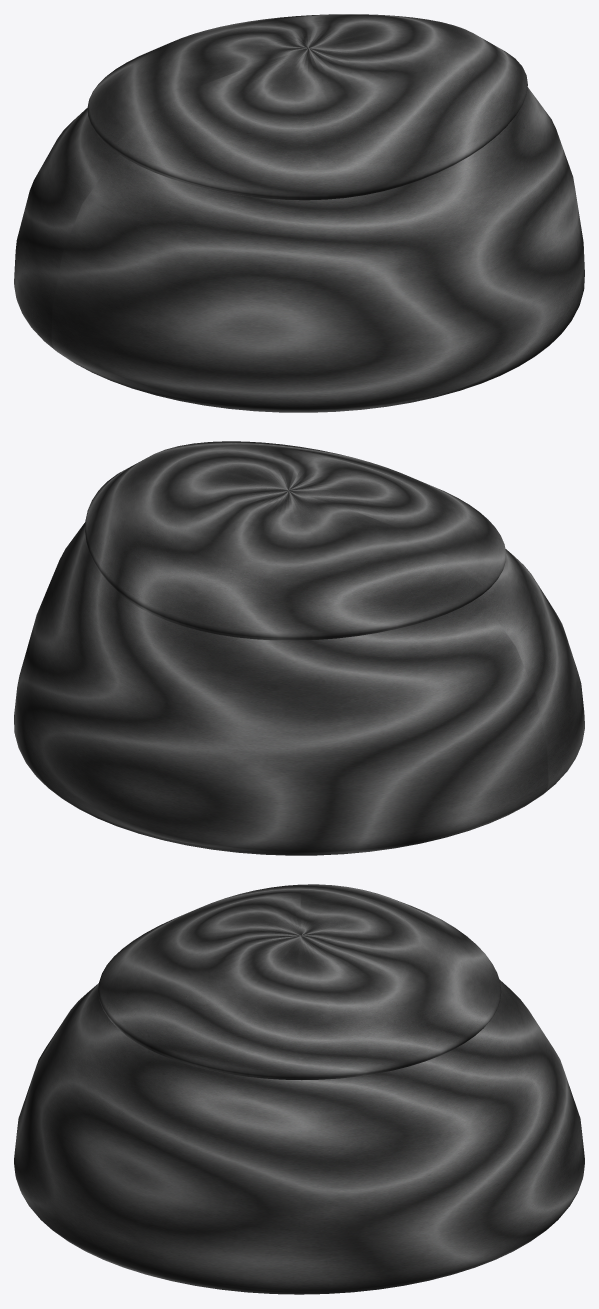
File: Rock.fbx
3 views of the same model, one above another, from view 1: azimuth 30°, elevation 25°; view 2: azimuth 150°, elevation 25°; view 3: azimuth 270°, elevation 25° (orthographic).
Parts seen in each view (by area): view 1: Rock, Overlay; view 2: Rock, Overlay; view 3: Rock, Overlay.
Boxes of the visible parts, x1,y1,x2,y2 form: Rock: (14, 87, 584, 412); Overlay: (87, 14, 527, 200); Rock: (14, 522, 584, 855); Overlay: (85, 441, 506, 640); Rock: (14, 979, 584, 1294); Overlay: (98, 884, 501, 1080).
Size of the model in its own units: 19.95 by 9.66 by 19.83.
1 material, 1 textured.
